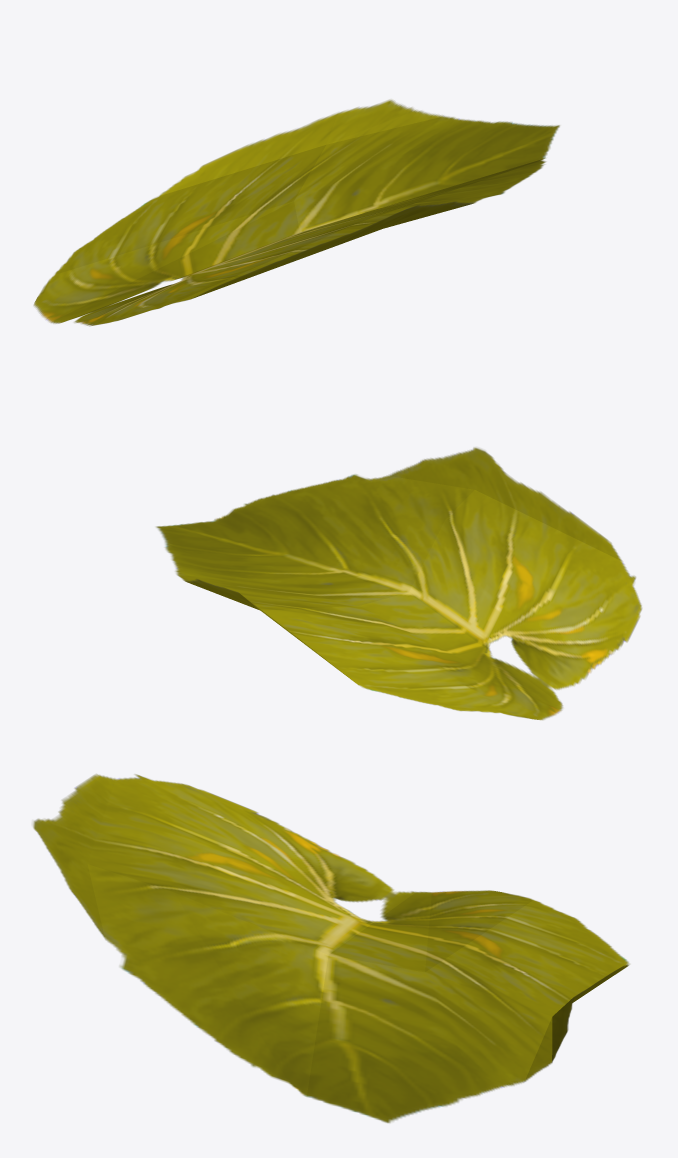
The model's file is BSPlant_2_Leaf_2.gltf.
3 views of the same model, one above another, from view 1: azimuth 30°, elevation 25°; view 2: azimuth 150°, elevation 25°; view 3: azimuth 270°, elevation 25° (orthographic). The views are drawn at different scales.
Visible parts, largest first — view 1: BSPlant_2_Leaf_2; view 2: BSPlant_2_Leaf_2; view 3: BSPlant_2_Leaf_2.
Part boxes in pixels (bbox=[...]): BSPlant_2_Leaf_2: bbox=[33, 99, 559, 326]; BSPlant_2_Leaf_2: bbox=[156, 447, 642, 720]; BSPlant_2_Leaf_2: bbox=[32, 774, 629, 1123].
Bounding box in the file's own units: 2.47 × 0.7402 × 1.48.
Materials: 1 (1 with a texture image).
